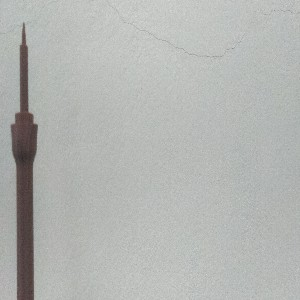solder: (9, 21, 40, 300)
